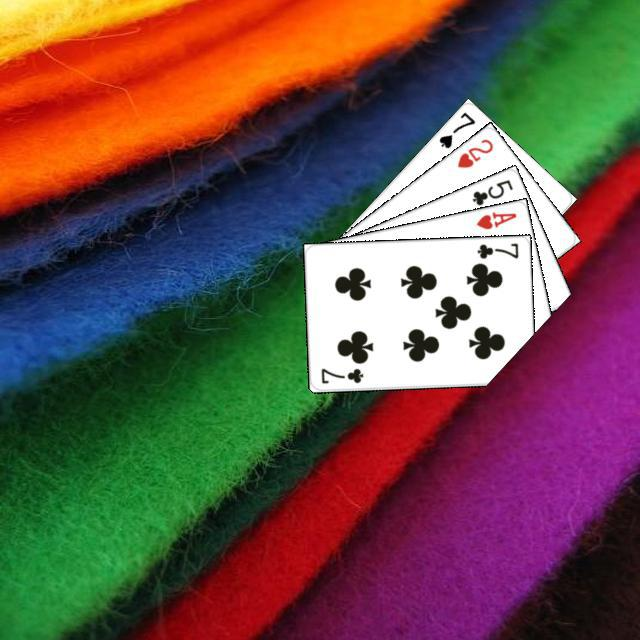2h: (452, 134, 495, 170)
5c: (467, 175, 514, 207)
7c: (316, 363, 365, 385), (472, 238, 520, 260)
7s: (434, 107, 477, 150)
Ah: (471, 207, 518, 231)
